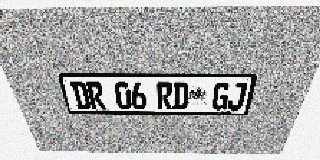0: (114, 82, 132, 109)
6: (130, 82, 147, 109)
D: (70, 82, 91, 109), (172, 82, 189, 110)
G: (211, 82, 231, 110)
J: (226, 82, 248, 110)
R: (86, 82, 106, 109), (157, 82, 173, 110)
